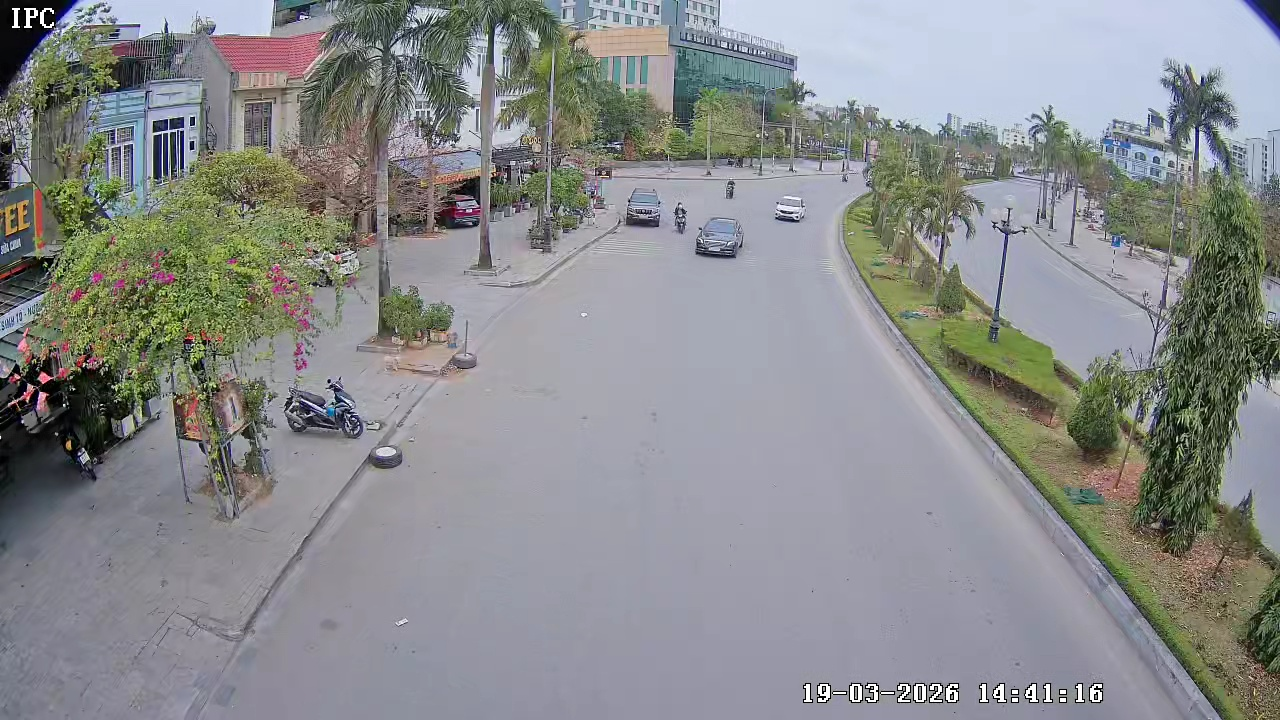car: (693, 213, 745, 259), (621, 185, 664, 227), (773, 191, 807, 223)
motorbike: (284, 373, 366, 439), (672, 199, 688, 234)
